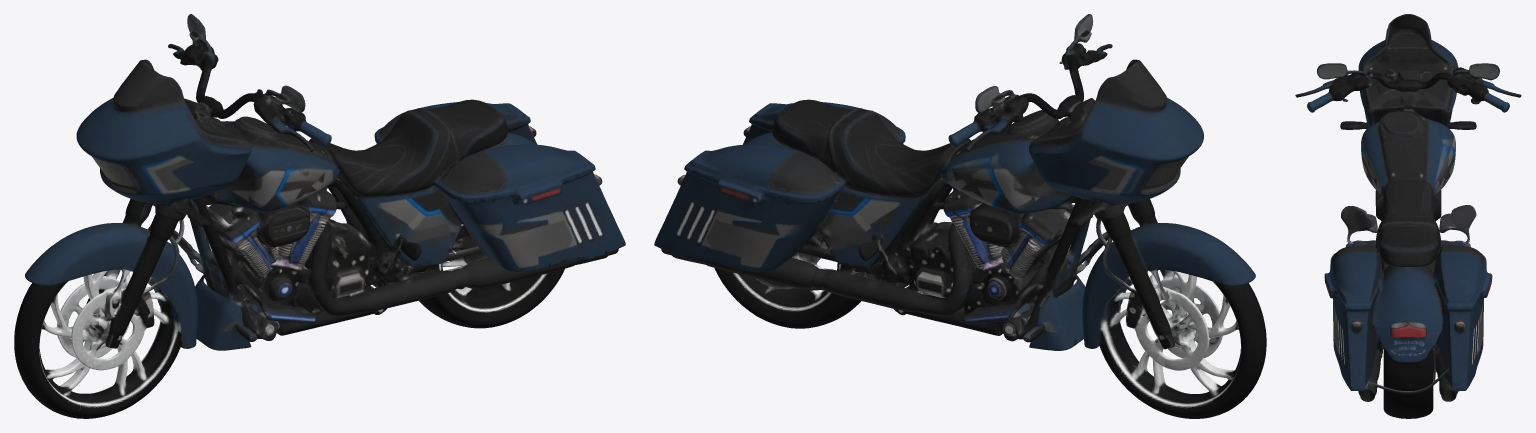
The model's file is roadglide.glb.
The picture shows the model from 3 angles, left to right: view 1: azimuth 30°, elevation 25°; view 2: azimuth 150°, elevation 25°; view 3: azimuth 270°, elevation 25°; orthographic projection. The views are drawn at different scales.
Visible parts, largest first — view 1: mesh_node; view 2: mesh_node; view 3: mesh_node.
Part boxes in pixels (bbox=[...]): mesh_node: bbox=[14, 14, 625, 418]; mesh_node: bbox=[654, 14, 1266, 418]; mesh_node: bbox=[1295, 14, 1521, 418].
Bounding box in the file's own units: 1.9 × 1.08 × 0.8259.
Materials: 1 (1 with a texture image).
